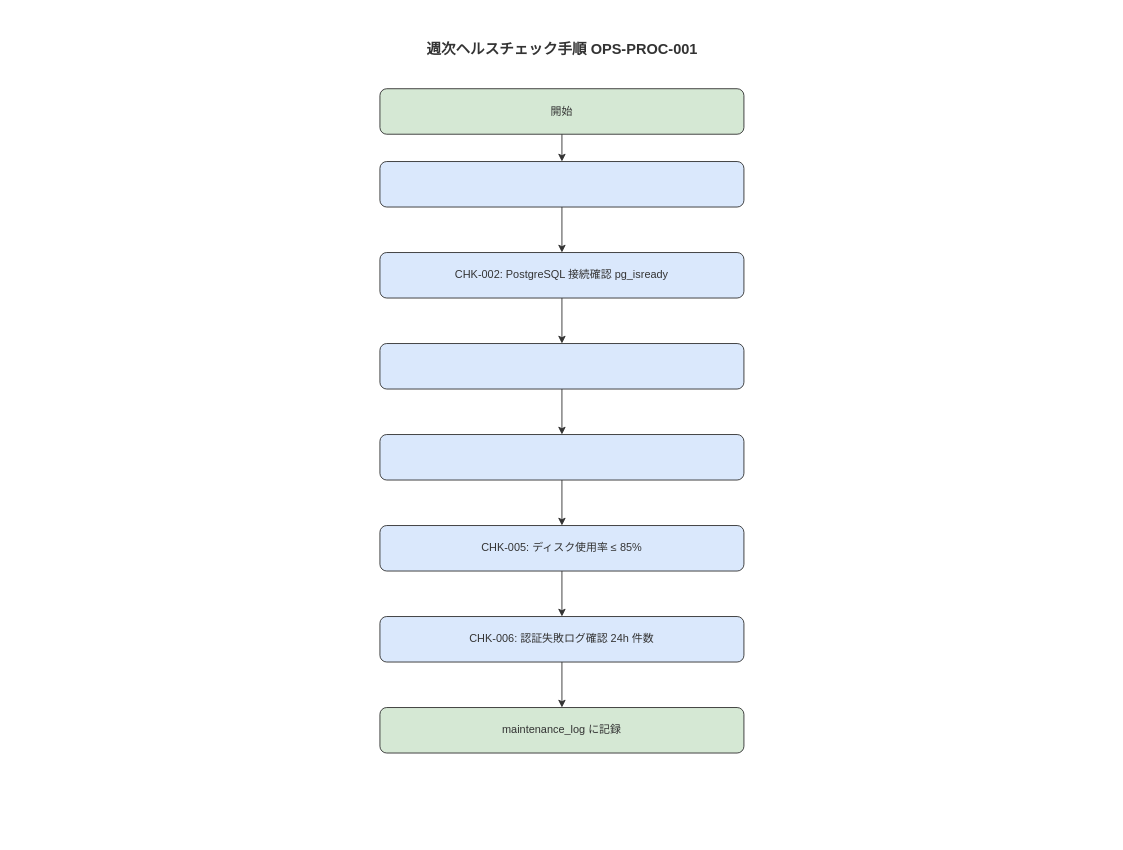
Some shapes in this 1123 by 850 pixel diagram are drawn without their labels. Each missing label, with the centre of its shape:
CHK-001: API ヘルスチェック curl /health → 200 OK: point (561, 184)
CHK-003: BAT-001 完了確認 job_executions: point (561, 366)
CHK-004: Outbox 滞留確認 pending ≤ 閾値: point (561, 457)
